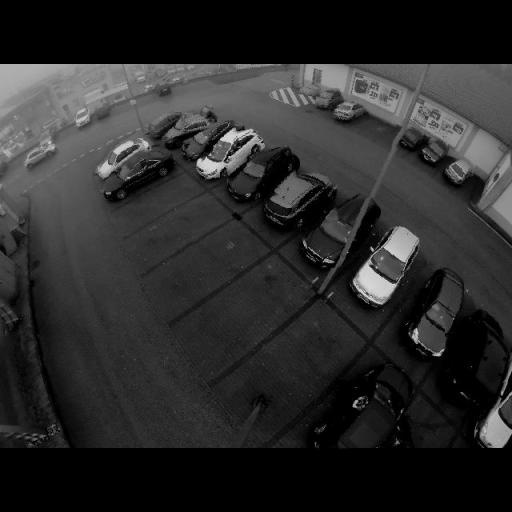busy: (314, 367, 411, 449), (404, 264, 478, 362), (348, 226, 428, 308), (445, 310, 510, 410), (300, 198, 380, 269), (260, 172, 336, 230), (227, 150, 298, 202), (199, 131, 263, 178), (104, 154, 173, 196), (182, 122, 239, 158), (96, 140, 147, 176), (162, 114, 210, 146), (440, 156, 475, 186), (330, 100, 368, 126), (416, 136, 448, 166), (150, 111, 186, 137), (393, 126, 423, 151), (311, 88, 342, 110)
free: (271, 337, 331, 383), (224, 284, 284, 328), (185, 245, 237, 280), (163, 216, 200, 242), (141, 189, 176, 211), (361, 118, 386, 136)
